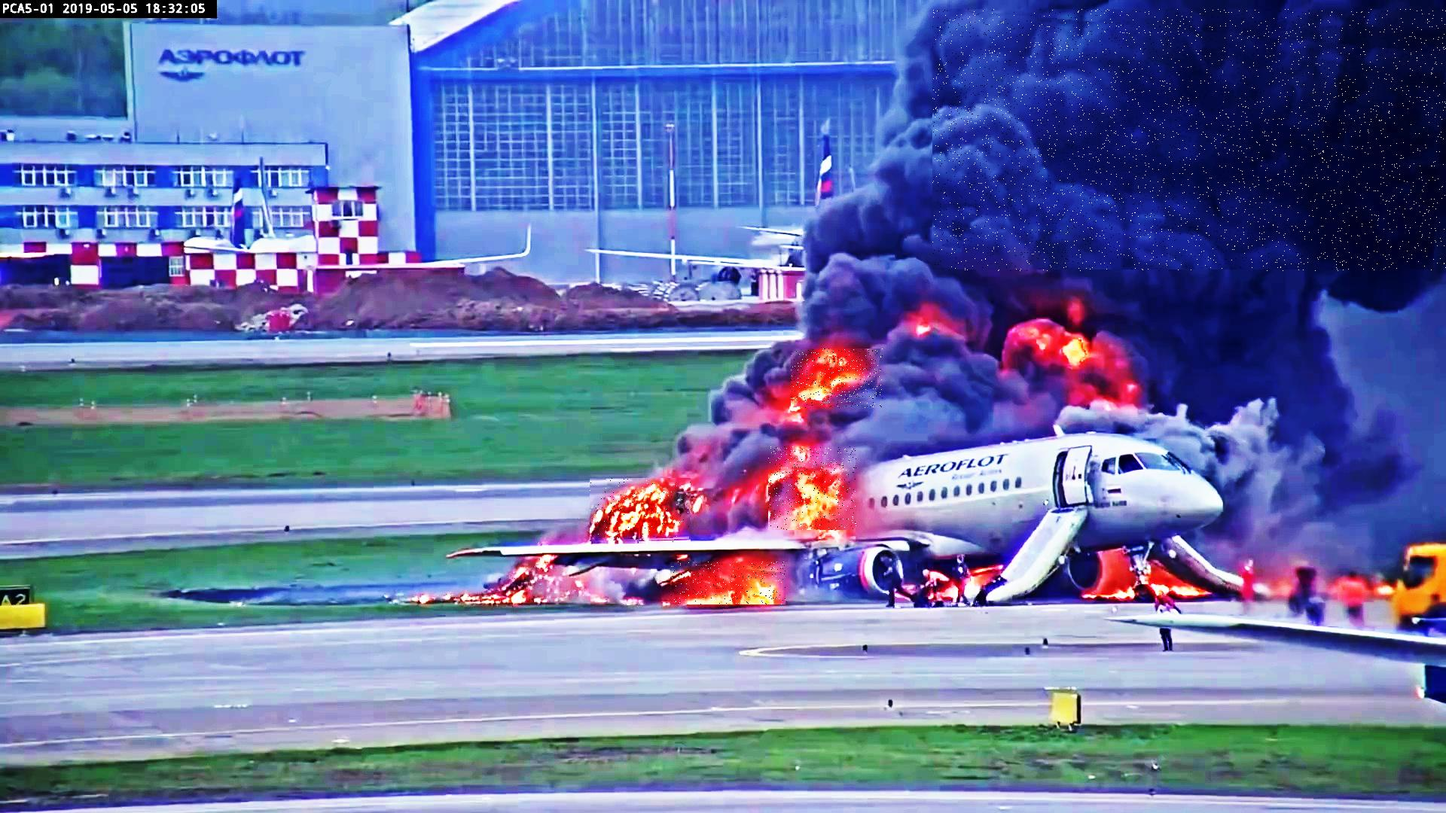fire: (768, 447, 856, 530), (590, 479, 691, 544), (792, 349, 883, 408), (671, 562, 788, 605)
smoke: (932, 10, 1446, 272)
